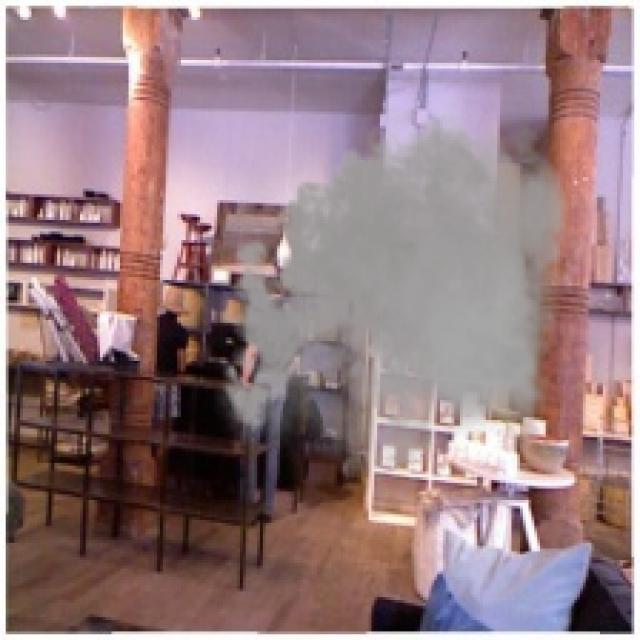Smoke: (211, 97, 580, 492)
